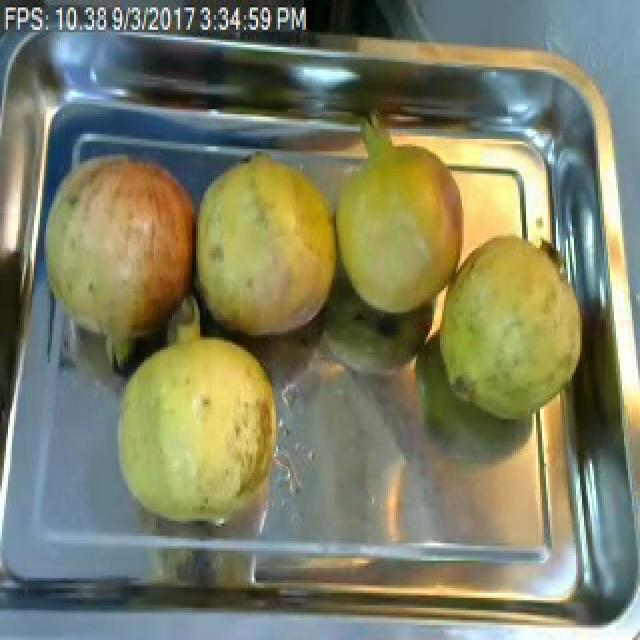fruit: (28, 134, 210, 382), (108, 320, 294, 538), (426, 218, 592, 434), (186, 142, 350, 348), (322, 129, 478, 330)
